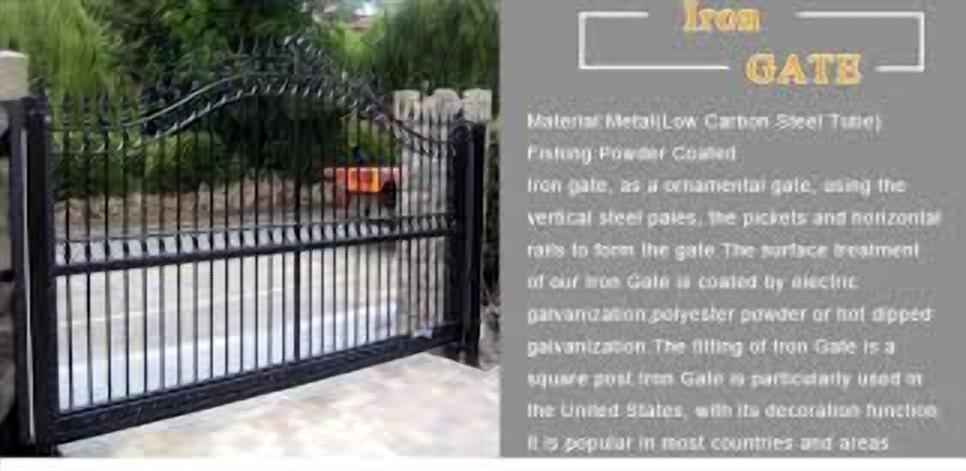Gate: (33, 33, 465, 446)
